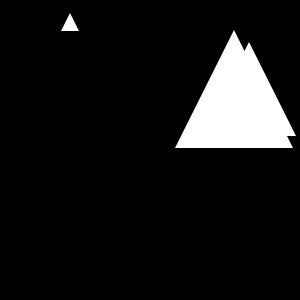triangle: (175, 30, 293, 148), (202, 42, 296, 136), (61, 13, 79, 31)
